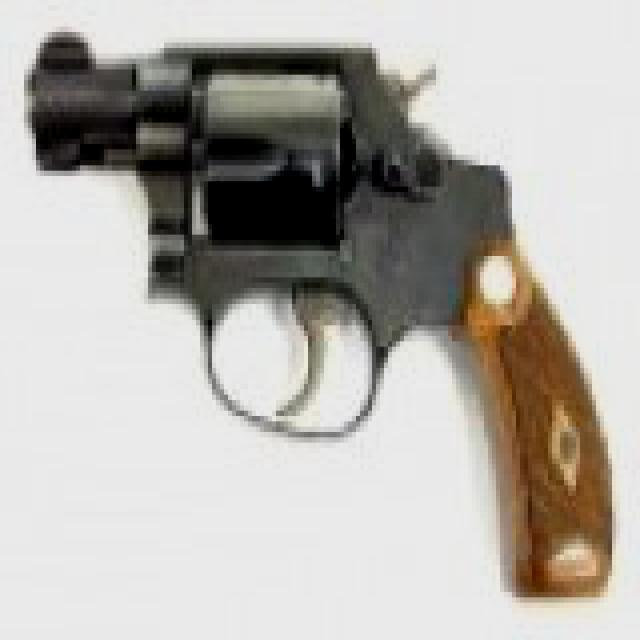handgun: (36, 15, 620, 598)
